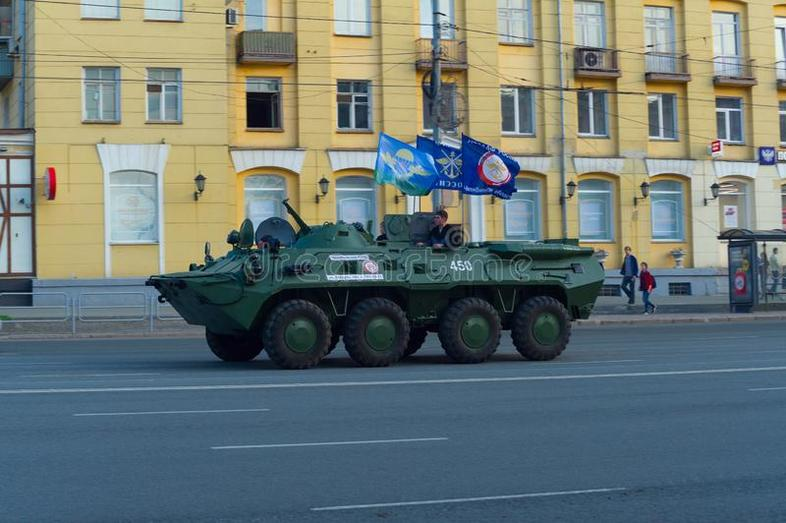btr: (152, 225, 610, 371)
